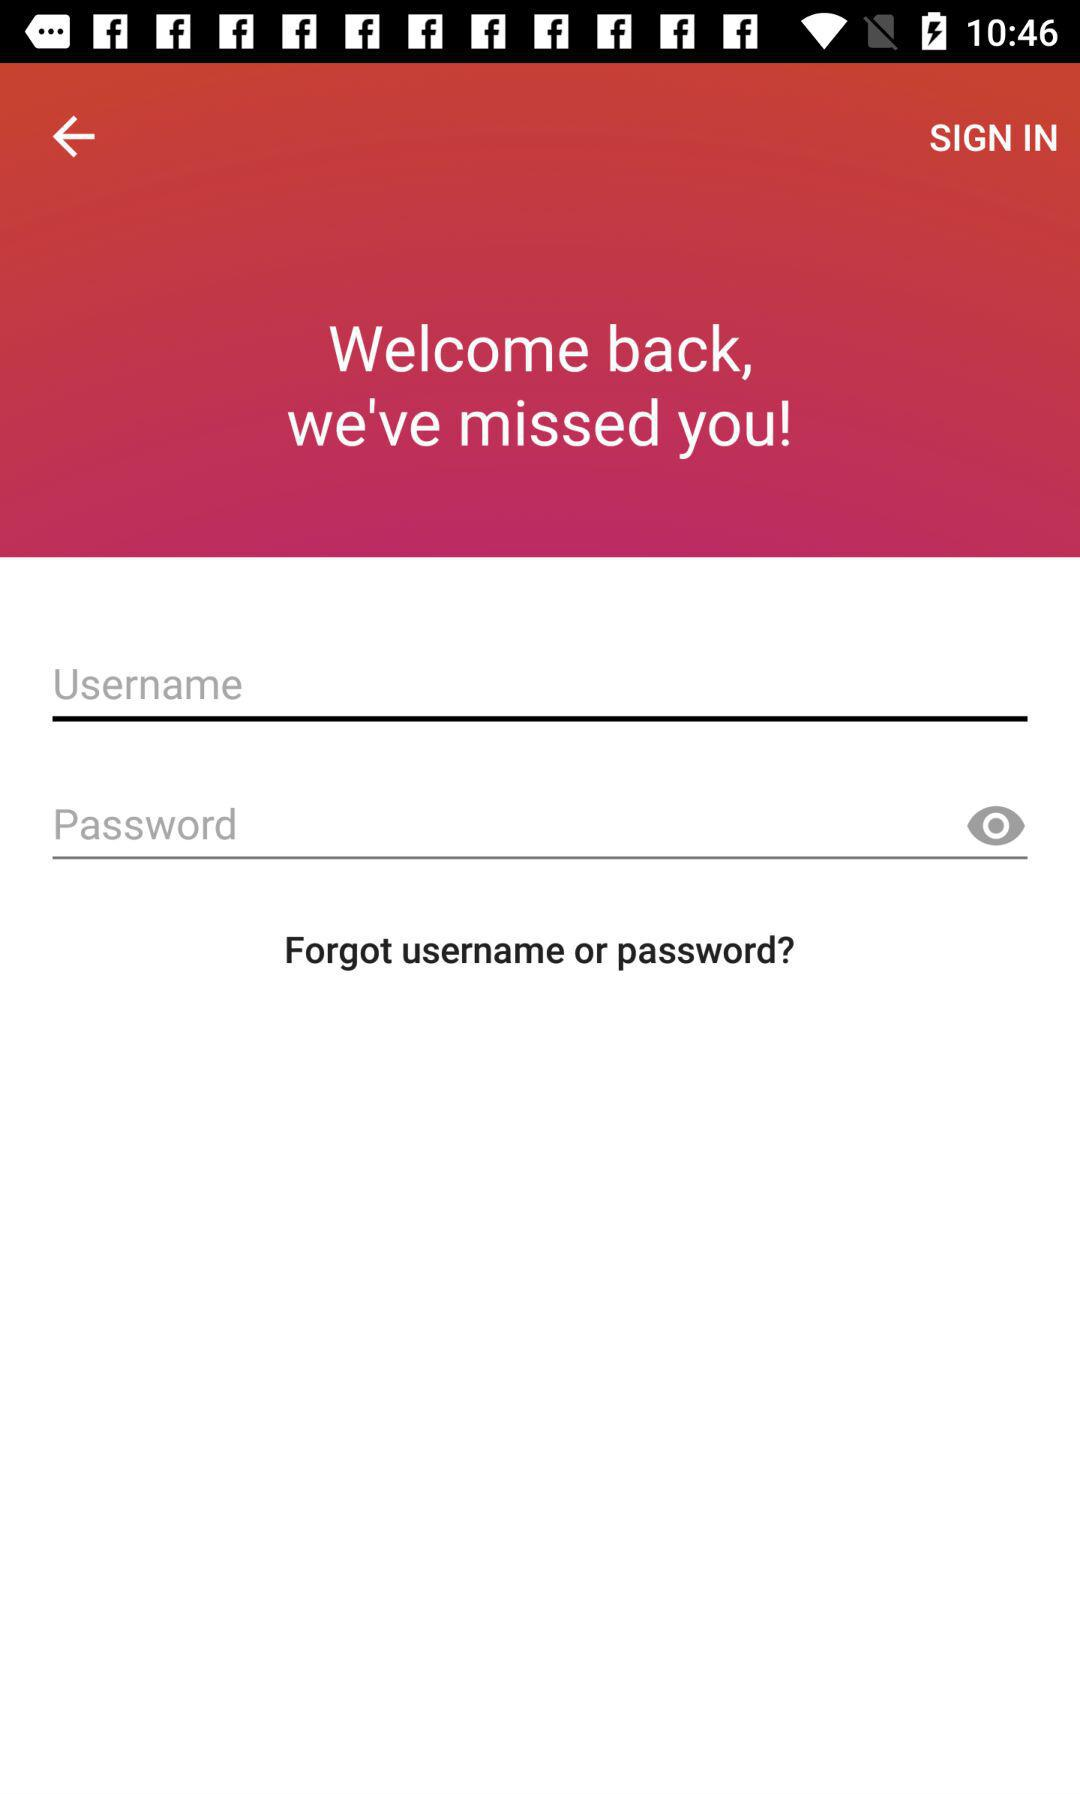EditText: (53, 669, 1029, 724), (53, 806, 1029, 861)
Icon: (966, 806, 1026, 847), (53, 117, 97, 159)
Text: (287, 323, 790, 463), (286, 934, 796, 973), (56, 807, 237, 843), (55, 669, 243, 701), (929, 123, 1058, 154)
UpperTaskBar: (1, 1, 1080, 64)
